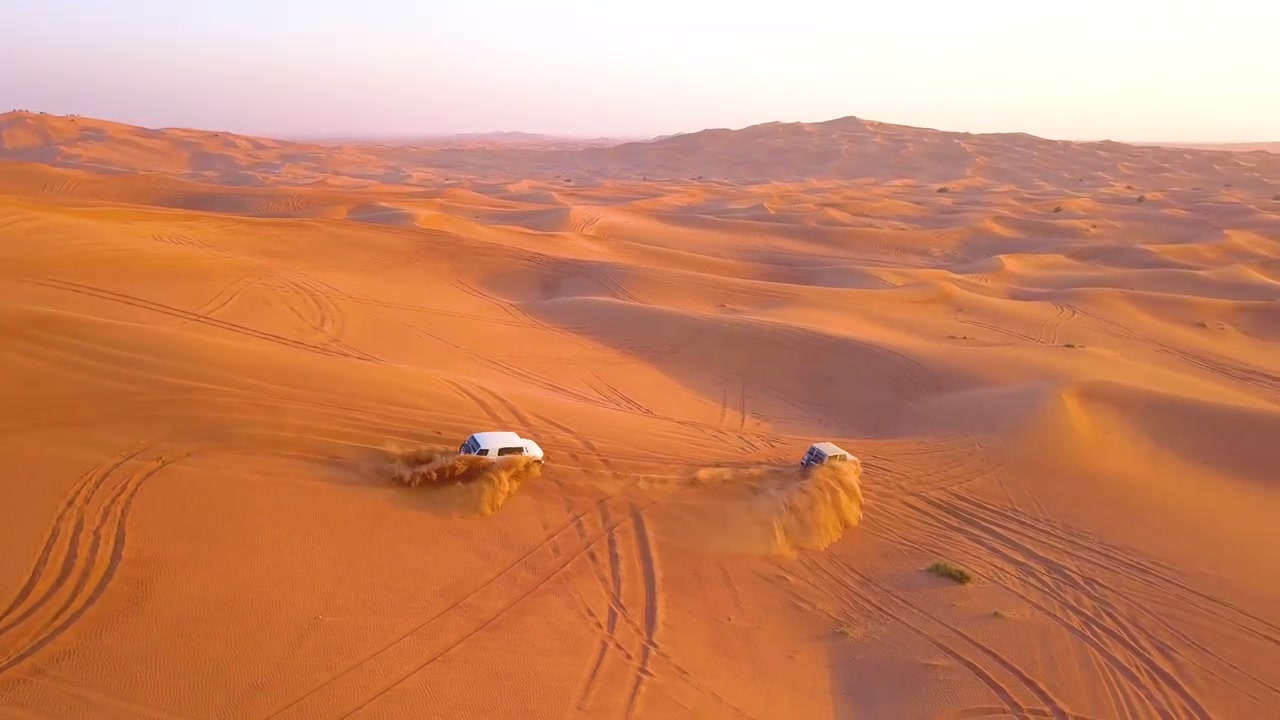vehicle_track: (267, 494, 663, 717), (268, 497, 659, 717), (266, 497, 610, 719), (926, 493, 1279, 706), (900, 493, 1210, 719), (942, 493, 1279, 646), (0, 443, 188, 673), (415, 329, 768, 451), (807, 556, 1071, 719), (24, 334, 443, 434), (787, 553, 1036, 717), (575, 510, 743, 716), (575, 524, 750, 717), (14, 277, 366, 361), (0, 443, 147, 635), (438, 376, 684, 477), (193, 261, 381, 362), (438, 377, 620, 478), (150, 394, 421, 460), (1075, 308, 1279, 393), (396, 320, 599, 405), (584, 371, 762, 452), (754, 319, 942, 395), (562, 532, 633, 709), (528, 412, 685, 488), (439, 276, 593, 347), (575, 530, 633, 709), (0, 666, 195, 719), (273, 270, 381, 361), (861, 436, 1007, 498), (467, 350, 616, 408), (332, 288, 524, 326), (626, 511, 658, 717), (524, 255, 646, 304), (342, 295, 523, 326), (273, 272, 344, 345), (655, 270, 804, 302), (530, 413, 611, 470), (446, 278, 532, 323), (667, 418, 763, 454), (569, 262, 647, 304), (584, 371, 656, 416), (439, 378, 506, 425), (192, 274, 265, 316), (348, 244, 432, 272), (480, 387, 534, 427), (956, 318, 1039, 342), (715, 370, 747, 431), (152, 233, 230, 255), (1036, 303, 1077, 343), (938, 706, 1010, 719), (569, 208, 600, 236), (42, 177, 81, 196), (716, 373, 729, 425), (738, 375, 747, 430), (0, 213, 29, 230)
